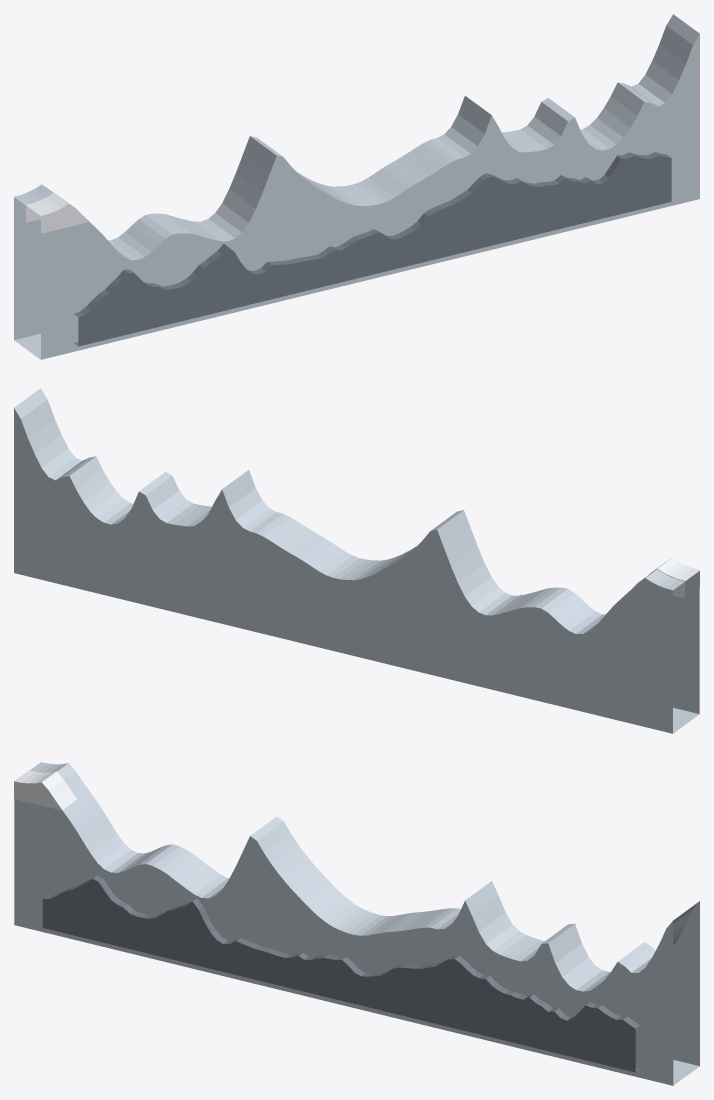
File: backdrop_mountains_far.glb
3 renders of one model, top to bottom at view 1: azimuth 30°, elevation 25°; view 2: azimuth 150°, elevation 25°; view 3: azimuth 330°, elevation 25°, orthographic.
Parts seen in each view (by area): view 1: MountainsFar, trim_MountainsFar, accent_MountainsFar; view 2: MountainsFar, accent_MountainsFar; view 3: MountainsFar, trim_MountainsFar, accent_MountainsFar.
Boxes of the visible parts, left/top/right/bottom form: MountainsFar: left=14, top=14, right=699, bottom=359; trim_MountainsFar: left=74, top=152, right=671, bottom=346; accent_MountainsFar: left=26, top=193, right=89, bottom=233; MountainsFar: left=14, top=388, right=699, bottom=733; accent_MountainsFar: left=649, top=557, right=699, bottom=598; MountainsFar: left=14, top=762, right=699, bottom=1085; trim_MountainsFar: left=42, top=875, right=639, bottom=1072; accent_MountainsFar: left=14, top=770, right=77, bottom=810.
Bounding box in the file's own units: 78 × 18.7 × 6.45.
